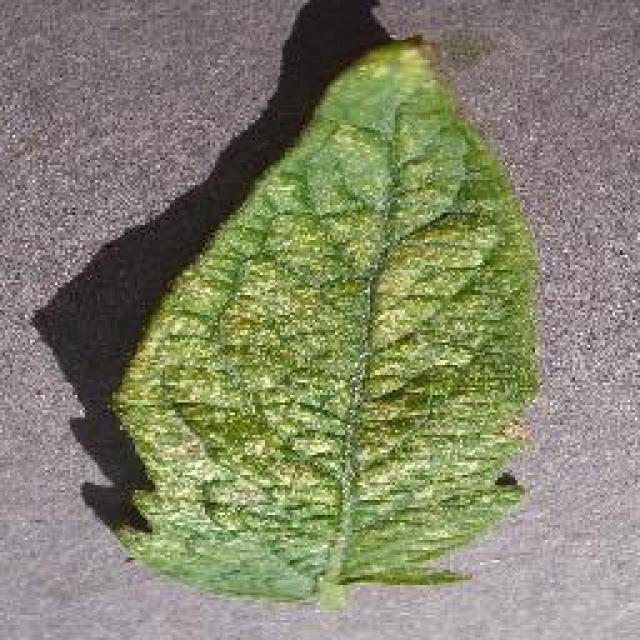Tom_Spider_mites Two-spotted_spider_mite: (208, 188, 492, 528)
